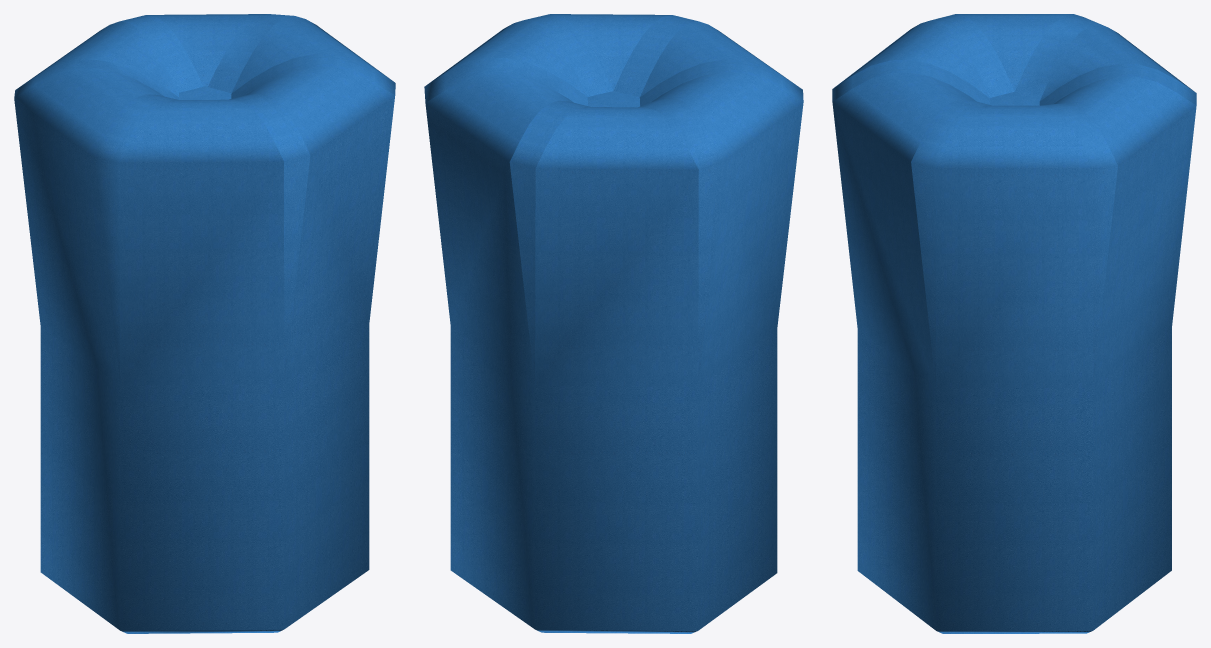
The model's file is hat 3.dae.
The picture shows the model from 3 angles, left to right: view 1: azimuth 30°, elevation 25°; view 2: azimuth 150°, elevation 25°; view 3: azimuth 270°, elevation 25°; orthographic projection.
Parts seen in each view (by area): view 1: instance_0; view 2: instance_0; view 3: instance_0.
Boxes of the visible parts, left/top/right/bottom form: instance_0: left=14, top=14, right=395, bottom=633; instance_0: left=424, top=14, right=803, bottom=633; instance_0: left=832, top=14, right=1196, bottom=633.
Bounding box in the file's own units: 0.3485 × 0.3677 × 0.5714.
Materials: 1 (1 with a texture image).
